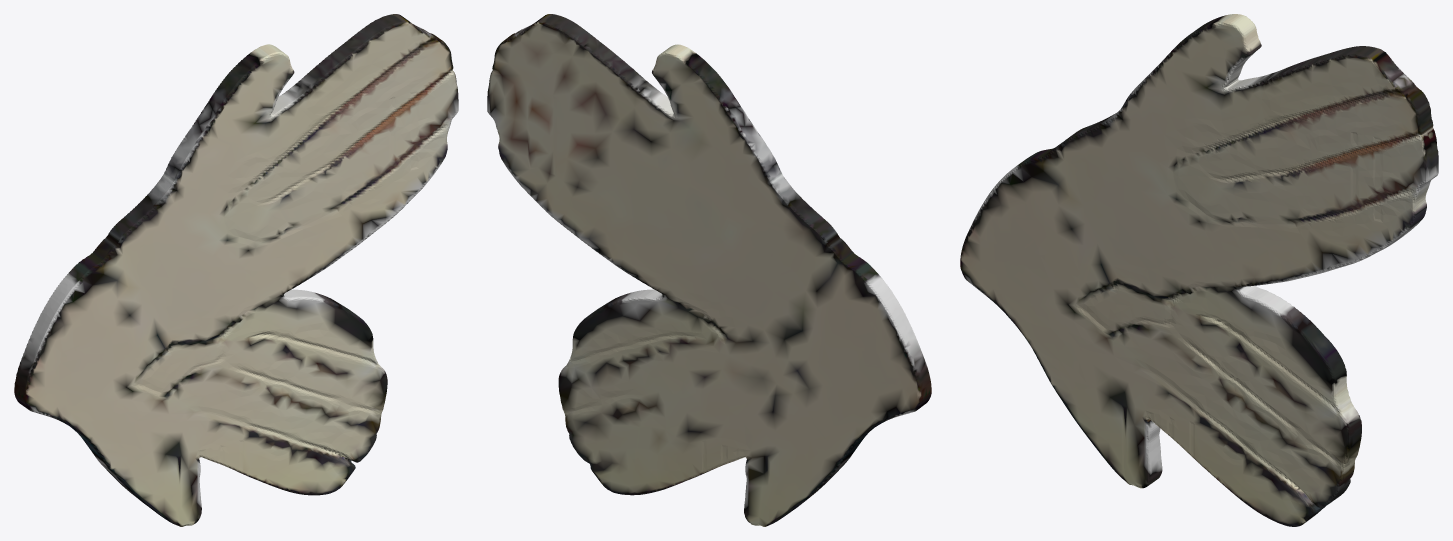
Rendered from gloves_cloth.glb.
3 renders of one model, left to right at view 1: azimuth 30°, elevation 25°; view 2: azimuth 150°, elevation 25°; view 3: azimuth 330°, elevation 25°, orthographic. The views are drawn at different scales.
Visible parts, largest first — view 1: geometry_0; view 2: geometry_0; view 3: geometry_0.
Boxes of the visible parts, x1,y1,x2,y2 form: geometry_0: (14, 14, 458, 526); geometry_0: (487, 14, 931, 526); geometry_0: (960, 14, 1438, 526).
Bounding box in the file's own units: 0.75 × 0.7507 × 0.0368.
